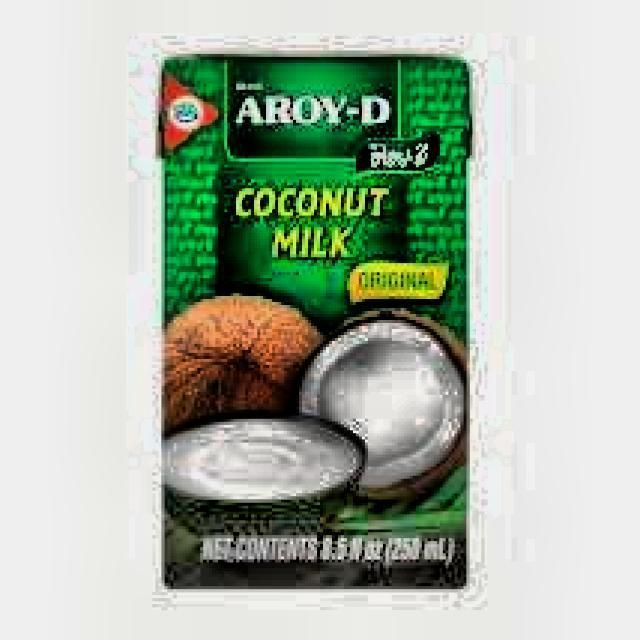cardboard: (156, 48, 472, 590)
